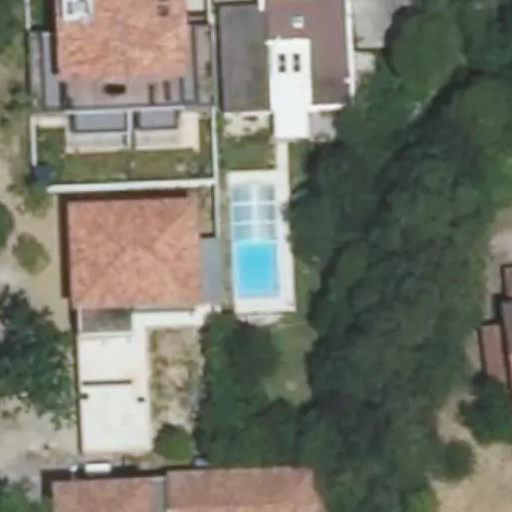pool: (235, 221, 278, 295)
